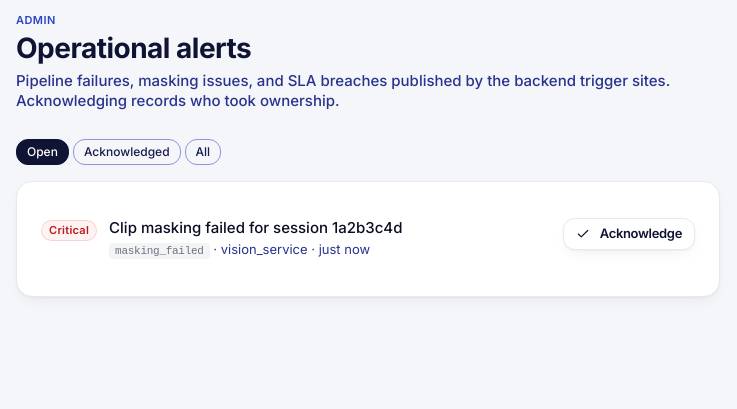
Scenario: AdminAlertsPage › acknowledging removes the row from the open view
Click the button with test id "ack-a1" at (629, 234), box [563, 218, 695, 250]
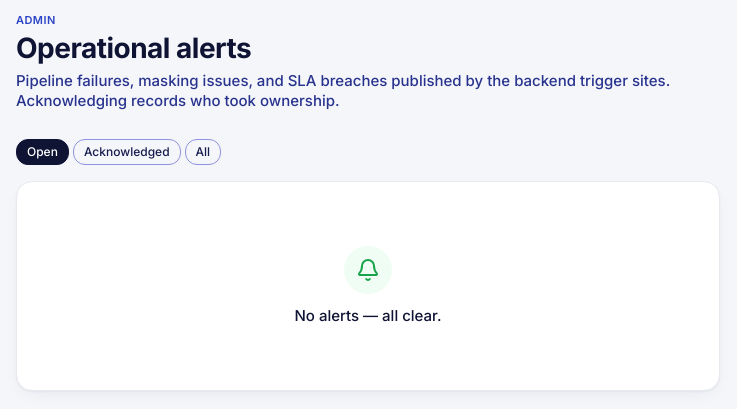
Expected: the list item with test id "alert-row-a1" is gone
Expected: the text "No alerts — all clear." is shown, [294, 306, 442, 326]
